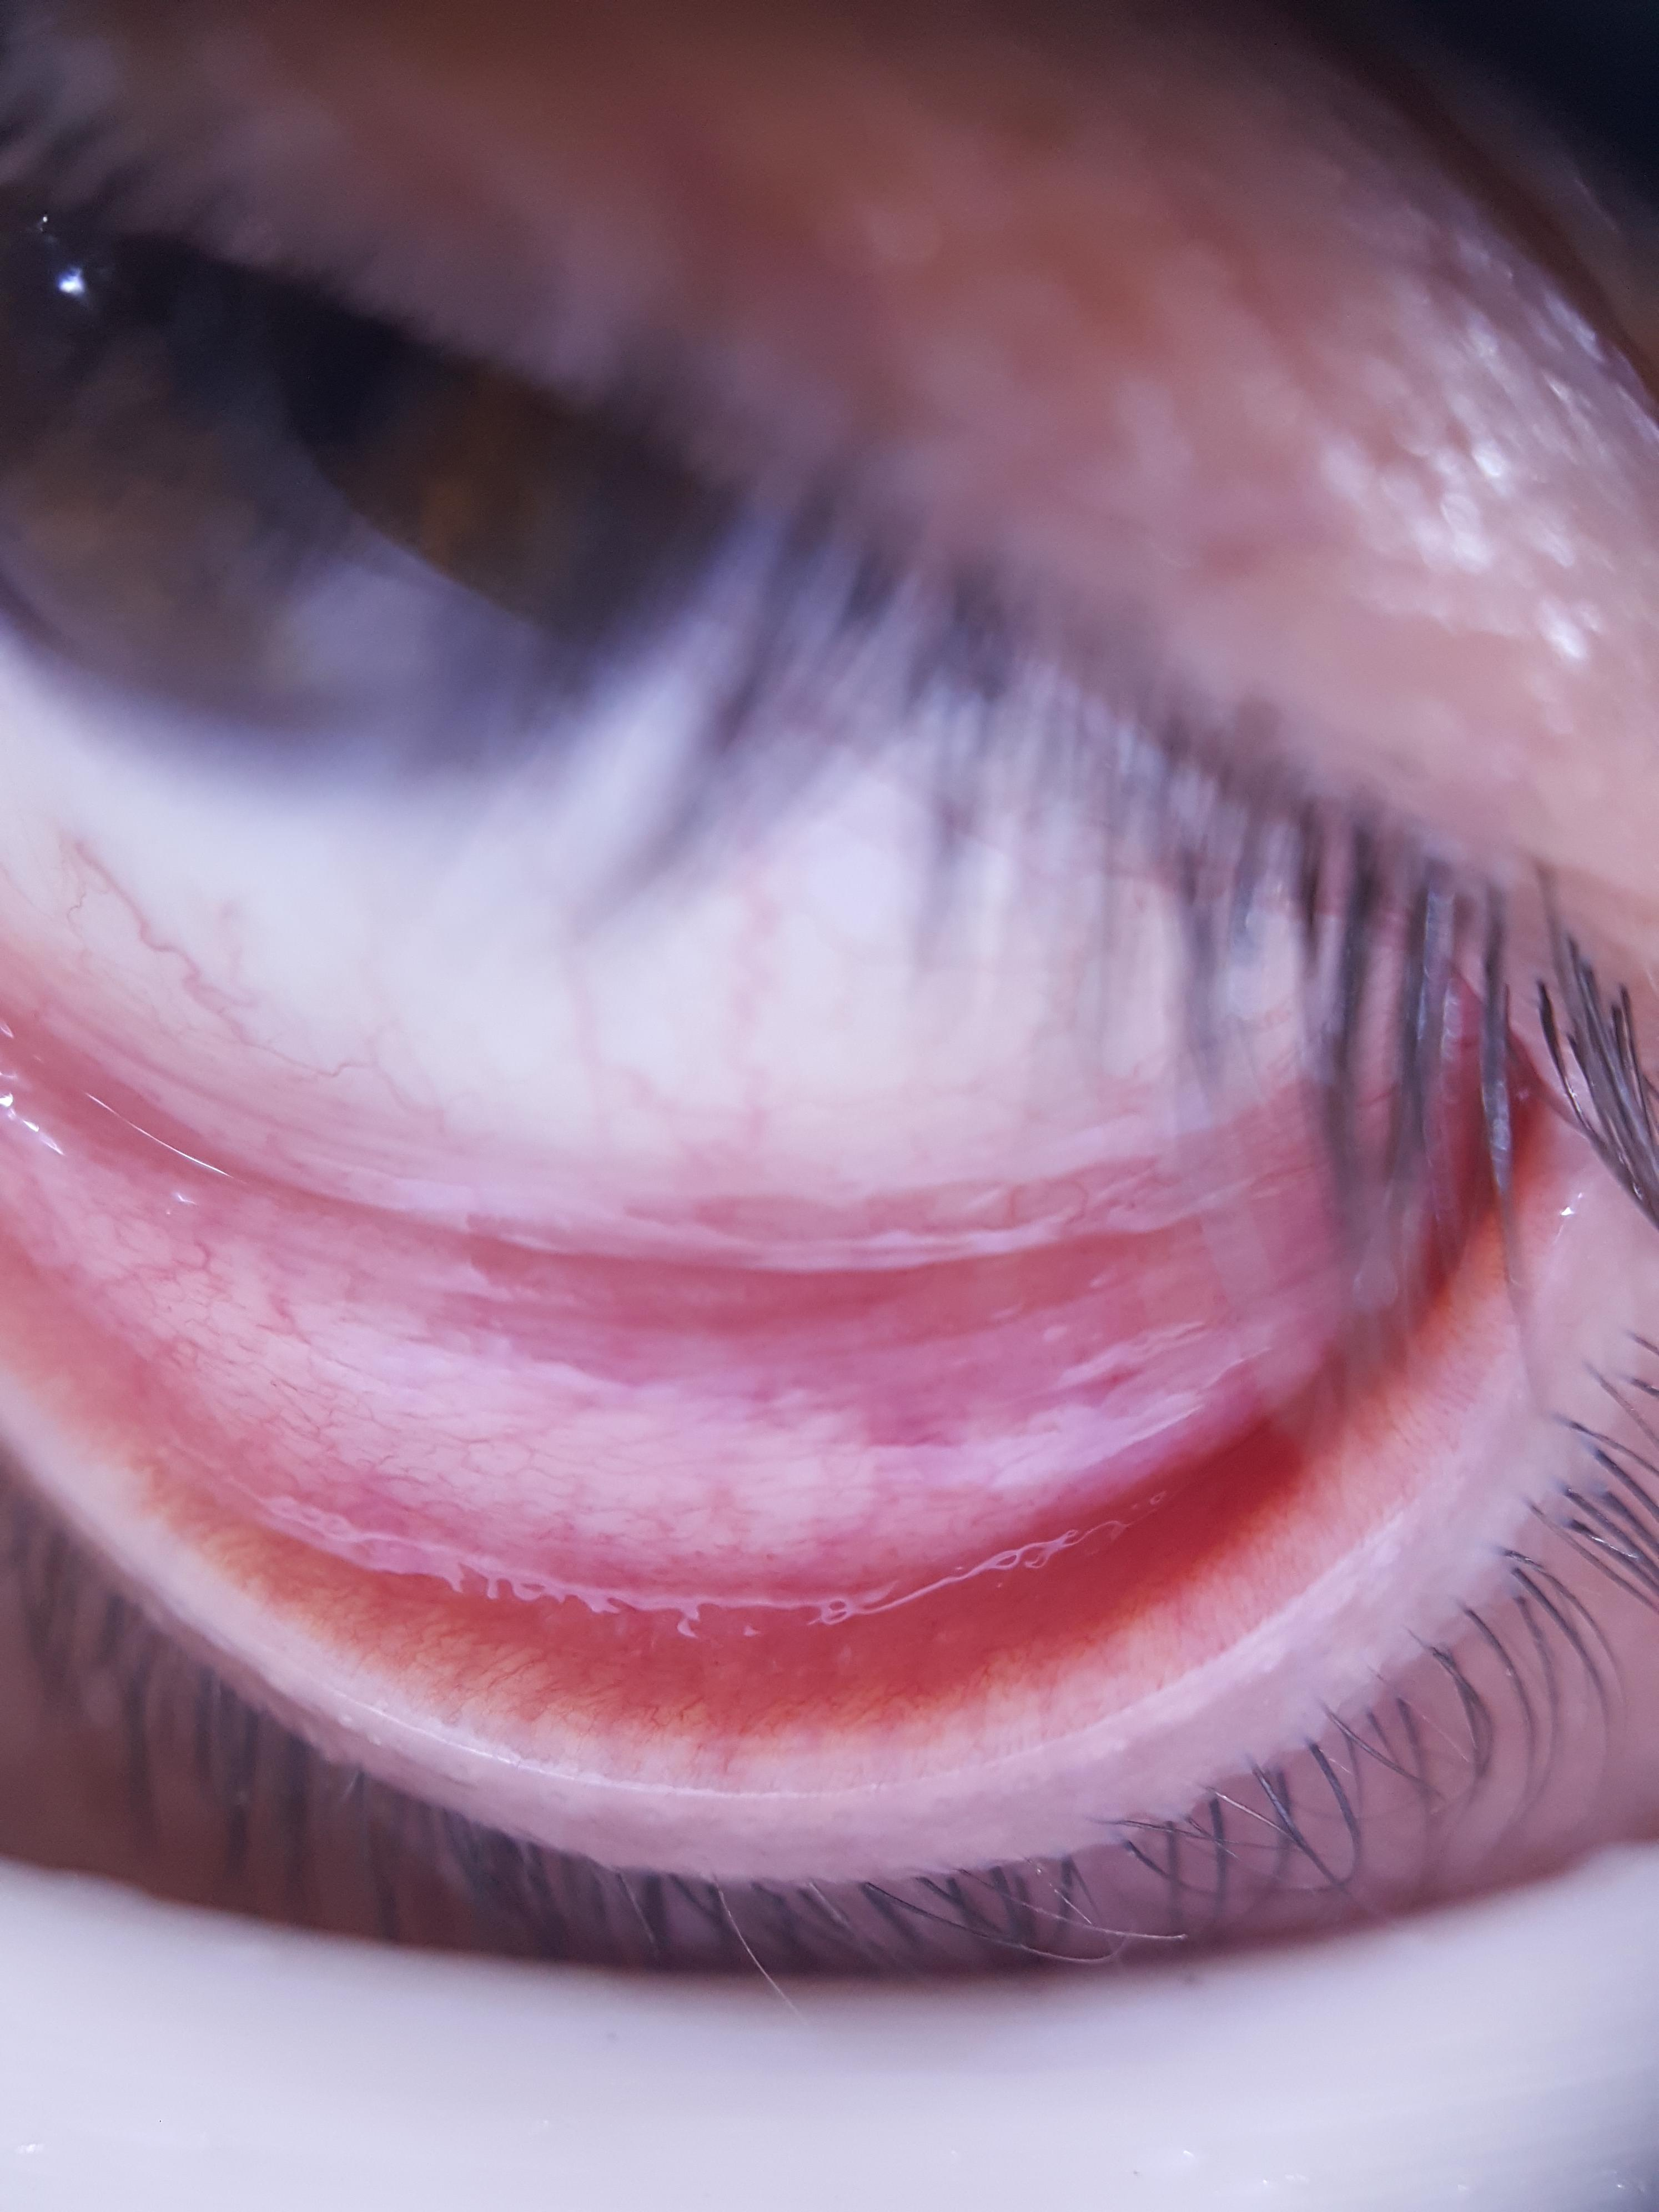forniceal: (10, 982, 1277, 1594)
forniceal_palpebral: (0, 958, 1344, 1750)
palpebral: (10, 1338, 1333, 1738)
